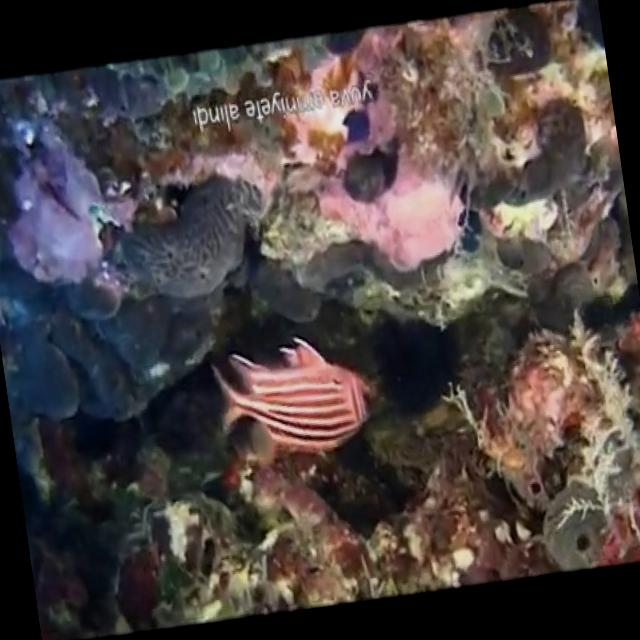Asker Baligi: (207, 325, 381, 470)
